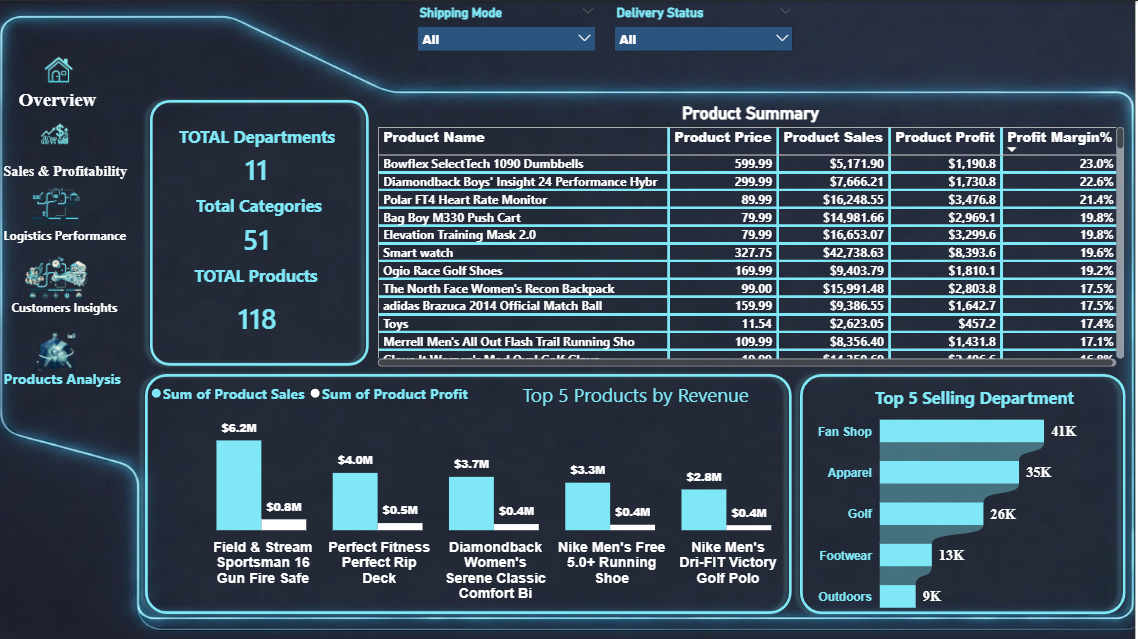

The page's visual inventory and layout, read from the dashboard file:
{"tool":"powerbi","page":{"name":"Products Analysis","canvas":[1280,720],"ordinal":4},"visuals":[{"type":"image","box":[0,0,1280,720],"z":0},{"type":"shape","box":[20.5,42.1,138.9,50],"z":1000},{"type":"textbox","box":[17.2,94.6,112.3,41.5],"z":1000,"group":"g4"},{"type":"tableEx","title":"Product Summary","fields":{"Values":["Dim_Products.Product Name","Dim_Products.Product Price","Dim_Products.Product Sales","Dim_Products.Product Profit","Dim_Products.Profit Margin%"]},"box":[426.1,114.6,842,296.8],"z":2000},{"type":"textbox","box":[0,178.5,173.3,43.3],"z":2000,"group":"g5"},{"type":"shape","box":[893.4,411.4,384.9,288.7],"z":2000,"group":"g1"},{"type":"textbox","box":[0,250.2,155.6,33.3],"z":3000,"group":"g6"},{"type":"group","id":"g1","title":"Group 3","box":[893.4,411.4,384.9,292.5],"z":3000},{"type":"shape","box":[155,411.7,746.7,288.3],"z":4000},{"type":"barChart","fields":{"Category":["Dim_Department.Department Name"],"Y":["Count(NewOrderItem.Order Id)"]},"box":[900.9,444.7,361.7,259.2],"z":4000,"group":"g1"},{"type":"textbox","box":[9,331.1,144.4,34.4],"z":5000,"group":"g7"},{"type":"textbox","box":[554.6,423.8,326.1,57.5],"z":5000},{"type":"textbox","box":[932,429.9,334.3,39],"z":5000,"group":"g1"},{"type":"image","box":[20.3,43.8,93.8,66.2],"z":5001,"group":"g4"},{"type":"group","id":"g2","title":"Group 2","box":[161.6,102.9,264.5,317.4],"z":6000},{"type":"textbox","box":[0,409.2,144.4,32.2],"z":7000,"group":"g8"},{"type":"clusteredColumnChart","fields":{"Category":["Dim_Products.Product Name"],"Y":["Sum(Dim_Products.Product Sales)","Sum(Dim_Products.Product Profit)"]},"box":[166,420.2,765.6,263],"z":7000},{"type":"group","id":"g3","title":"Group 8","box":[0,43.8,173.3,397.6],"z":8000},{"type":"group","id":"g4","title":"Group 1","box":[17.2,43.8,112.3,92.3],"z":8000,"group":"g3"},{"type":"pageNavigator","box":[0,77.3,144.3,383],"z":9000},{"type":"image","box":[14.4,120.7,95.6,64],"z":9000,"group":"g5"},{"type":"slicer","fields":{"Values":["Dim_Shipping.Shipping Mode"]},"box":[461.4,0,221.6,89.8],"z":10000},{"type":"shape","box":[161.6,102.9,264.5,317.4],"z":10000,"group":"g2"},{"type":"slicer","fields":{"Values":["Dim_Shipping.Delivery Status"]},"box":[682.7,0,222.4,90.5],"z":11000},{"type":"image","box":[16.8,278.9,94.4,64.4],"z":11000,"group":"g7"},{"type":"image","box":[14.4,360.3,95.6,65.6],"z":13000,"group":"g8"},{"type":"cardVisual","fields":{"Data":["CountNonNull(Dim_Products.Product Id)"]},"box":[171,321.1,242.4,66.3],"z":15000,"group":"g2"},{"type":"image","box":[16.7,205.8,94.4,50],"z":16000,"group":"g6"},{"type":"cardVisual","fields":{"Data":["CountNonNull(Dim_Category.Category Id)"]},"box":[169.2,232.2,242.4,69.8],"z":16000,"group":"g2"},{"type":"cardVisual","fields":{"Data":["CountNonNull(Dim_Department.Department Id)"]},"box":[169.2,153.7,242.4,66.3],"z":17000,"group":"g2"},{"type":"textbox","box":[171,213.8,245.4,36.7],"z":18000,"group":"g2"},{"type":"textbox","box":[171,135.3,241,41.1],"z":19000,"group":"g2"},{"type":"group","id":"g5","title":"Group 3","box":[0,120.7,173.3,101.1],"z":20000,"group":"g3"},{"type":"textbox","box":[165.1,291.7,249.8,55.8],"z":20000,"group":"g2"},{"type":"group","id":"g6","title":"Group 5","box":[0,205.8,155.6,77.8],"z":21000,"group":"g3"},{"type":"group","id":"g7","title":"Group 6","box":[9,278.9,144.4,86.7],"z":22000,"group":"g3"},{"type":"group","id":"g8","title":"Group 7","box":[0,360.3,144.4,81.1],"z":23000,"group":"g3"}]}

Visuals, with their boxes in screenshot pixels (x1, y1, x2, y2), scaled from the page's 1280x720 canvas onto the 1138x639 screenshot:
image: 0 0 1137 638
shape: 18 37 142 82
textbox: 15 84 115 121
"Product Summary" tableEx: 379 102 1127 365
textbox: 0 158 154 197
shape: 794 365 1136 621
textbox: 0 222 138 252
"Group 3" group: 794 365 1136 625
shape: 138 365 802 621
barChart - Dim_Department.Department Name x Count(NewOrderItem.Order Id): 801 395 1123 625
textbox: 8 294 136 324
textbox: 493 376 783 427
textbox: 829 382 1126 416
image: 18 39 101 98
"Group 2" group: 144 91 379 373
textbox: 0 363 128 392
clusteredColumnChart - Dim_Products.Product Name x Sum(Dim_Products.Product Sales): 148 373 828 606
"Group 8" group: 0 39 154 392
"Group 1" group: 15 39 115 121
pageNavigator: 0 69 128 409
image: 13 107 98 164
slicer - Dim_Shipping.Shipping Mode: 410 0 607 80
shape: 144 91 379 373
slicer - Dim_Shipping.Delivery Status: 607 0 805 80
image: 15 248 99 305
image: 13 320 98 378
cardVisual - CountNonNull(Dim_Products.Product Id): 152 285 368 344
image: 15 183 99 227
cardVisual - CountNonNull(Dim_Category.Category Id): 150 206 366 268
cardVisual - CountNonNull(Dim_Department.Department Id): 150 136 366 195
textbox: 152 190 370 222
textbox: 152 120 366 157
"Group 3" group: 0 107 154 197
textbox: 147 259 369 308
"Group 5" group: 0 183 138 252
"Group 6" group: 8 248 136 324
"Group 7" group: 0 320 128 392
